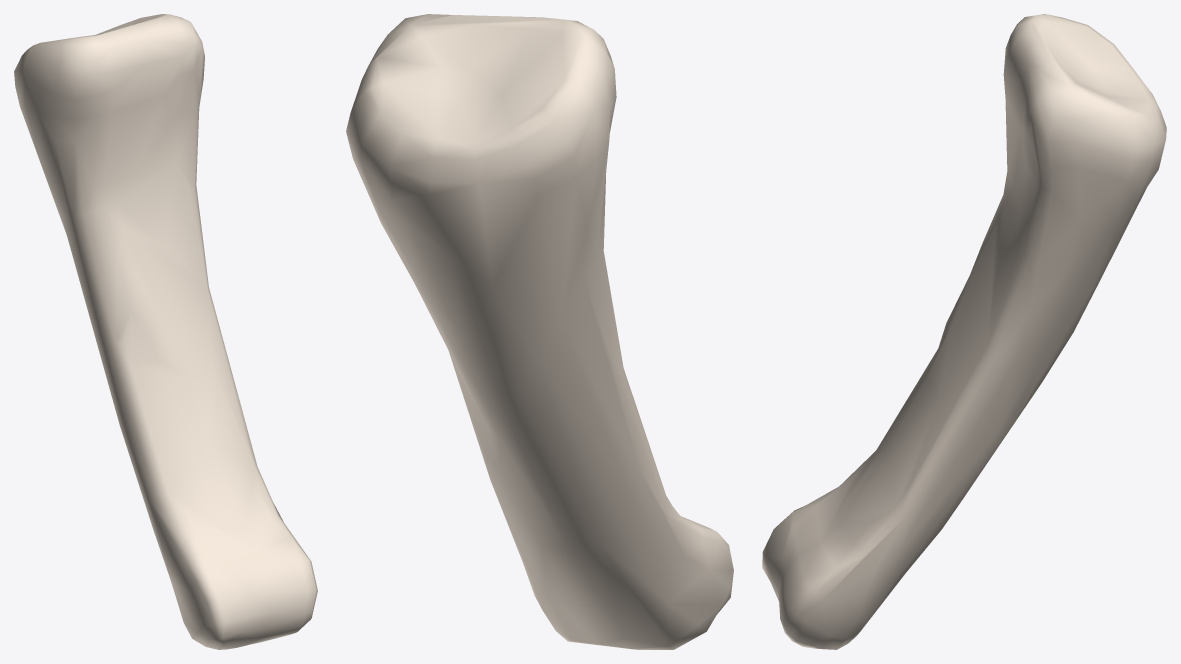
Rendered from left_digit_4_proximal.glb.
3 renders of one model, left to right at view 1: azimuth 30°, elevation 25°; view 2: azimuth 150°, elevation 25°; view 3: azimuth 270°, elevation 25°, orthographic. The views are drawn at different scales.
Visible parts, largest first — view 1: Proximal phalanx of 4th finger.r; view 2: Proximal phalanx of 4th finger.r; view 3: Proximal phalanx of 4th finger.r.
Part boxes in pixels (x1,y1,x2,y2): Proximal phalanx of 4th finger.r: [14, 14, 317, 649]; Proximal phalanx of 4th finger.r: [346, 14, 733, 649]; Proximal phalanx of 4th finger.r: [762, 14, 1166, 649].
Bounding box in the file's own units: 0.0129 × 0.0402 × 0.0252.
